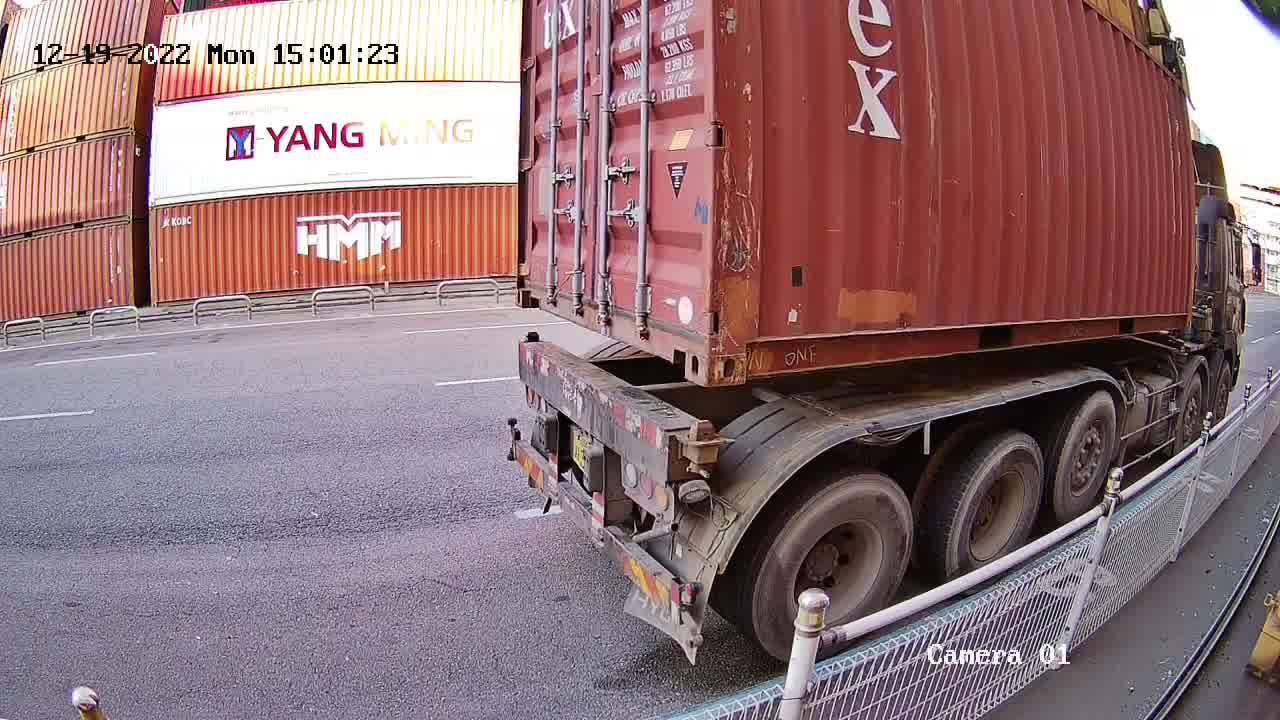Chassis: (517, 340, 710, 488)
Cone: (679, 419, 720, 480), (522, 327, 544, 345)
Hole_L: (708, 303, 779, 388), (516, 265, 549, 314)
Hole_R: (659, 302, 706, 386)
Tire: (753, 475, 914, 665), (948, 436, 1045, 580), (1054, 393, 1119, 521)
